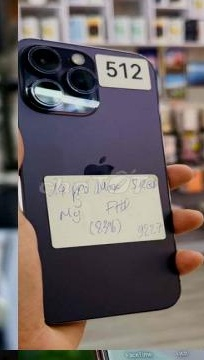scratch: (21, 44, 103, 114)
